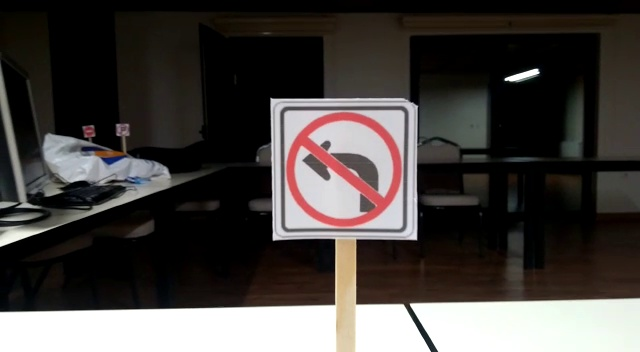sola_donulmez: (273, 99, 410, 231)
